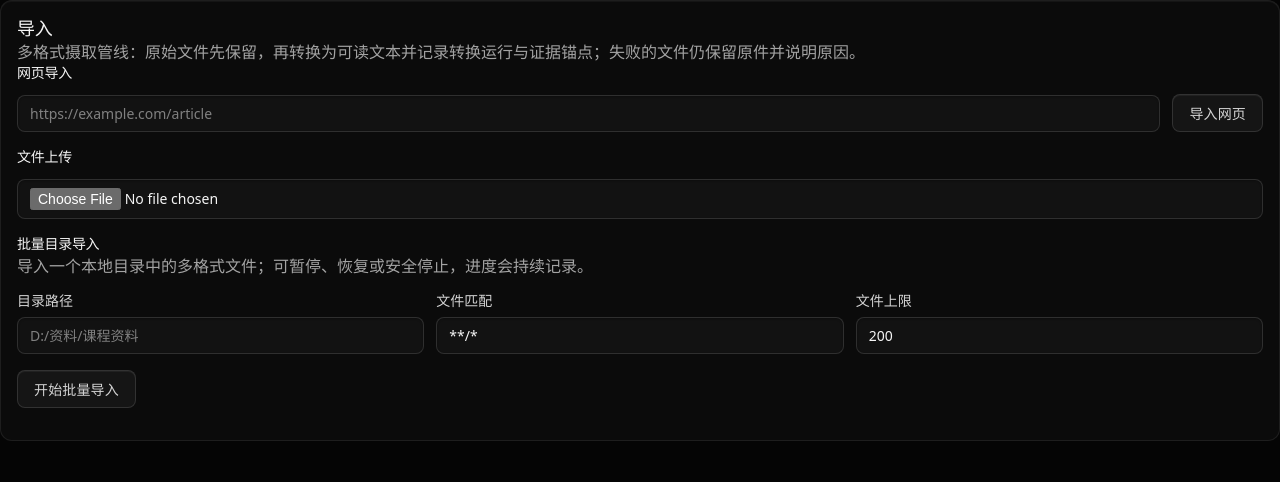
Test: IntakeSpace › refuses an empty URL with a product message
Click the button "导入网页" at (1218, 113), box [1172,94,1263,132]
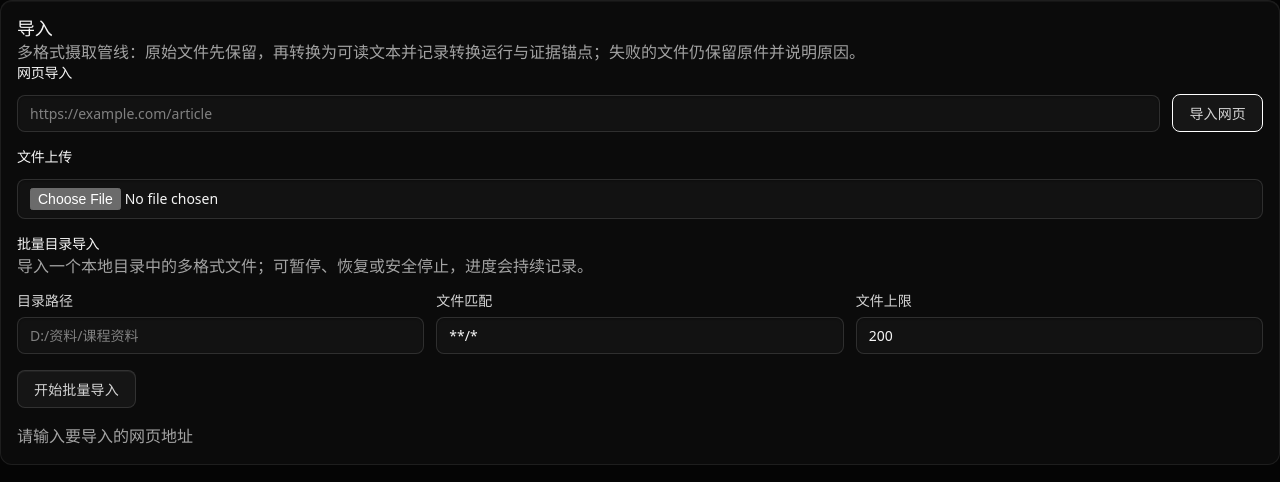
Expected: the text "请输入要导入的网页地址" is shown, [17,425,193,447]
